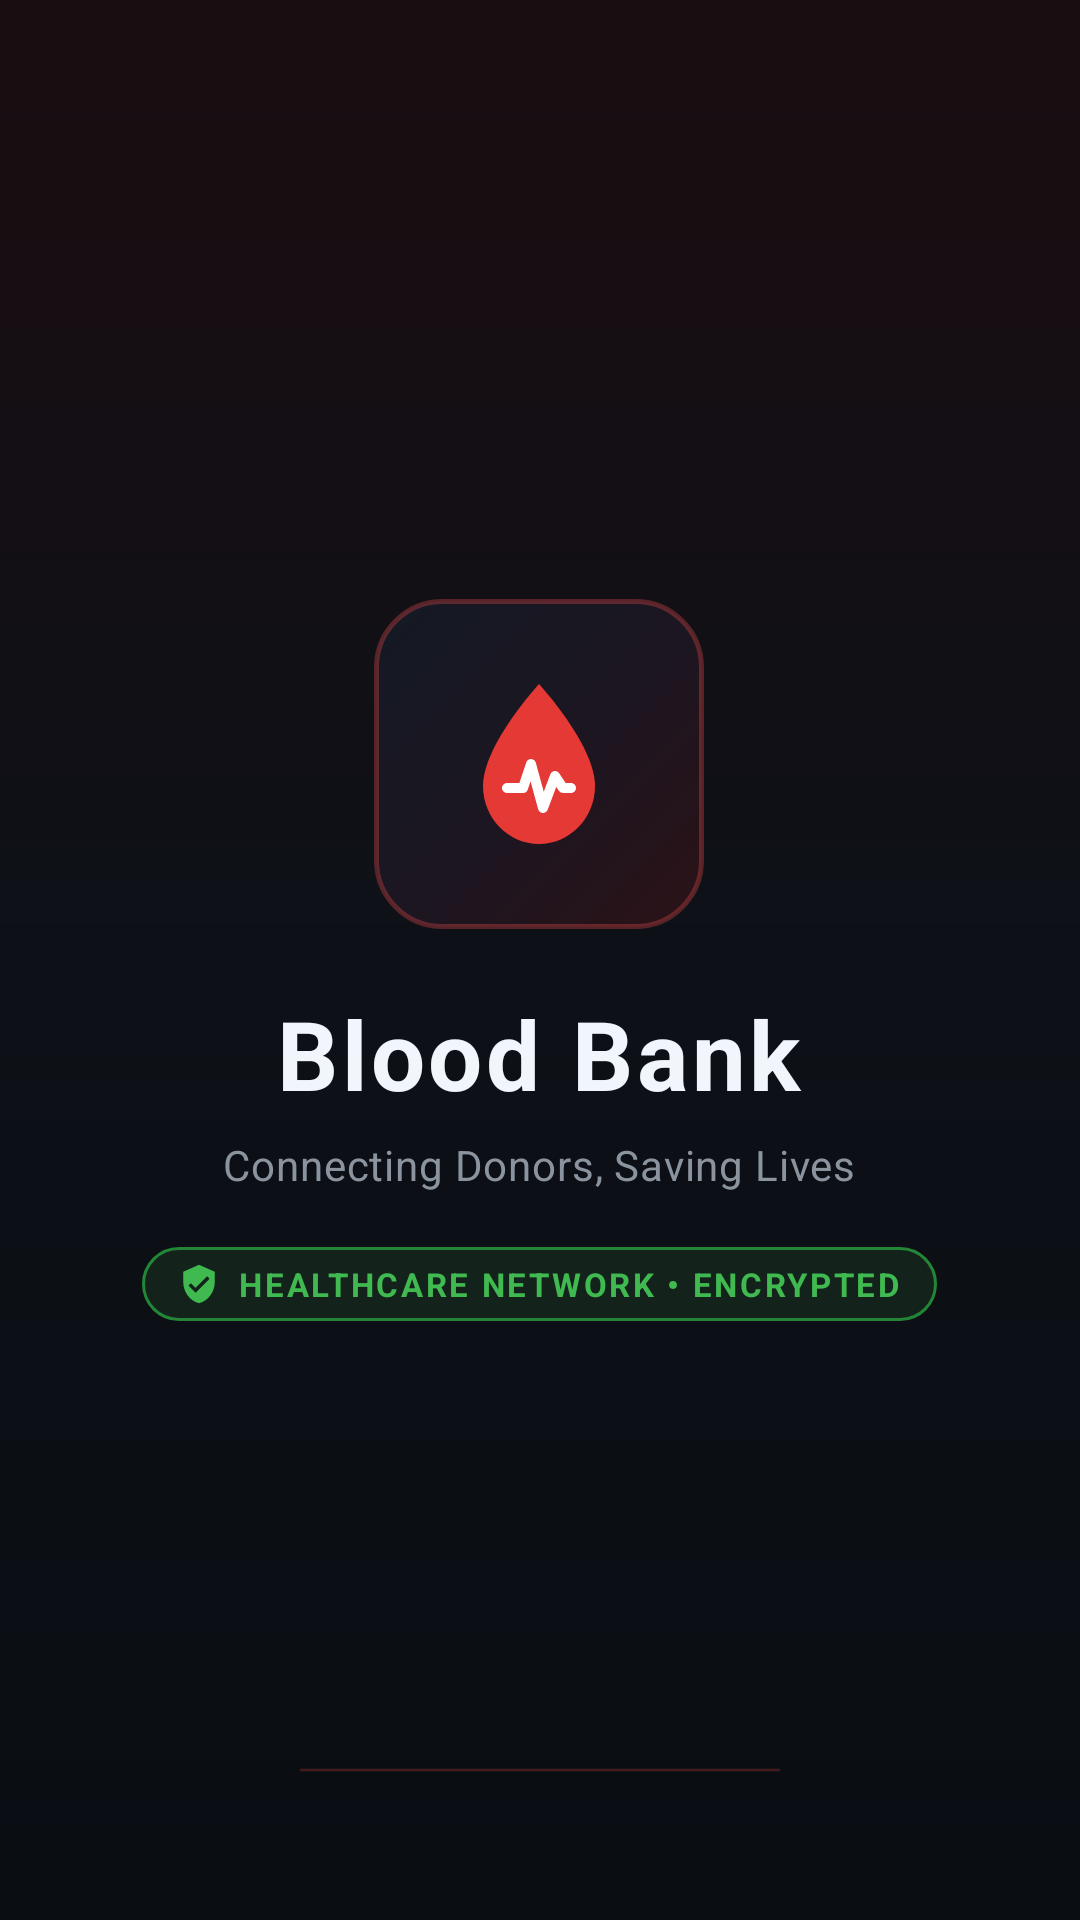

Icons on this 1080 × 1920 Android screen, each with its box as (x1, y1, x2, y2):
blood drop pulse: (483, 684, 595, 844)
Verified: (183, 1265, 215, 1303)
